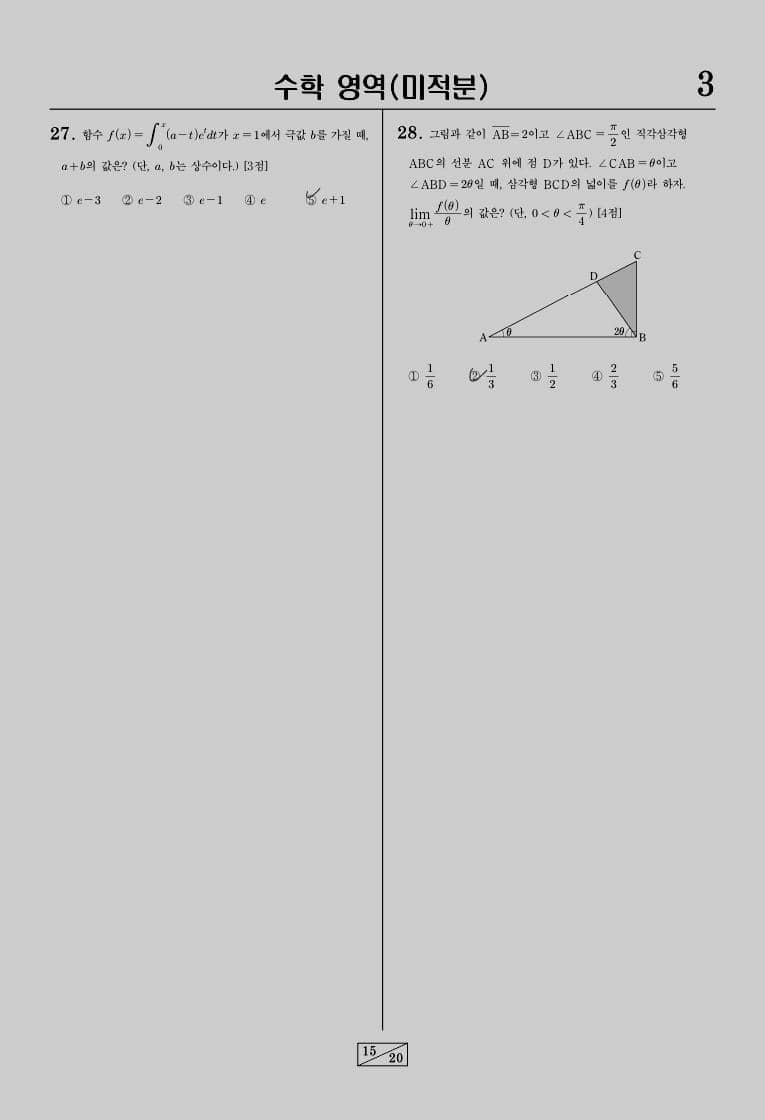question: (385, 116, 698, 406), (38, 114, 377, 220)
